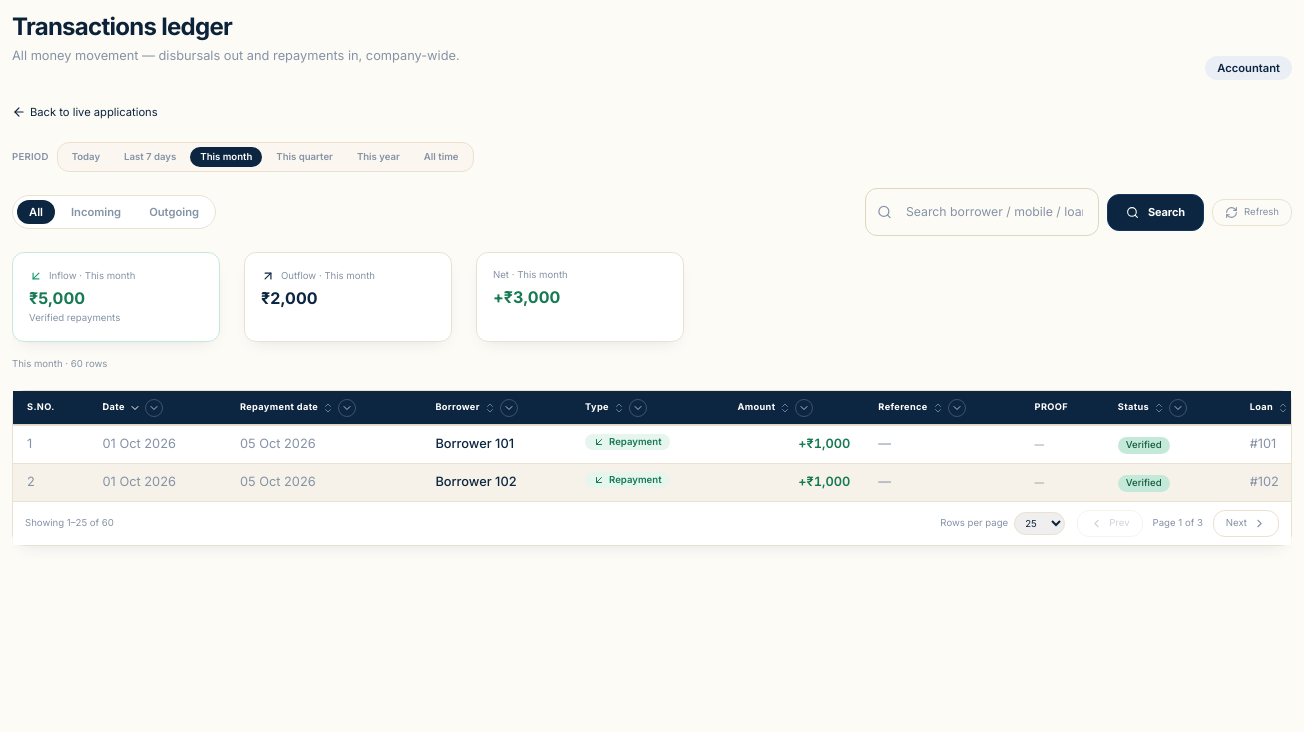
Test: TransactionsPage › asks once, for page 1, when the direction changes on a later page
Expected: the button "Borrower 101" is shown, x1=435 y1=434 x2=514 y2=454
Click the button "Next" at (1246, 523), box x1=1213 y1=510 x2=1279 y2=537
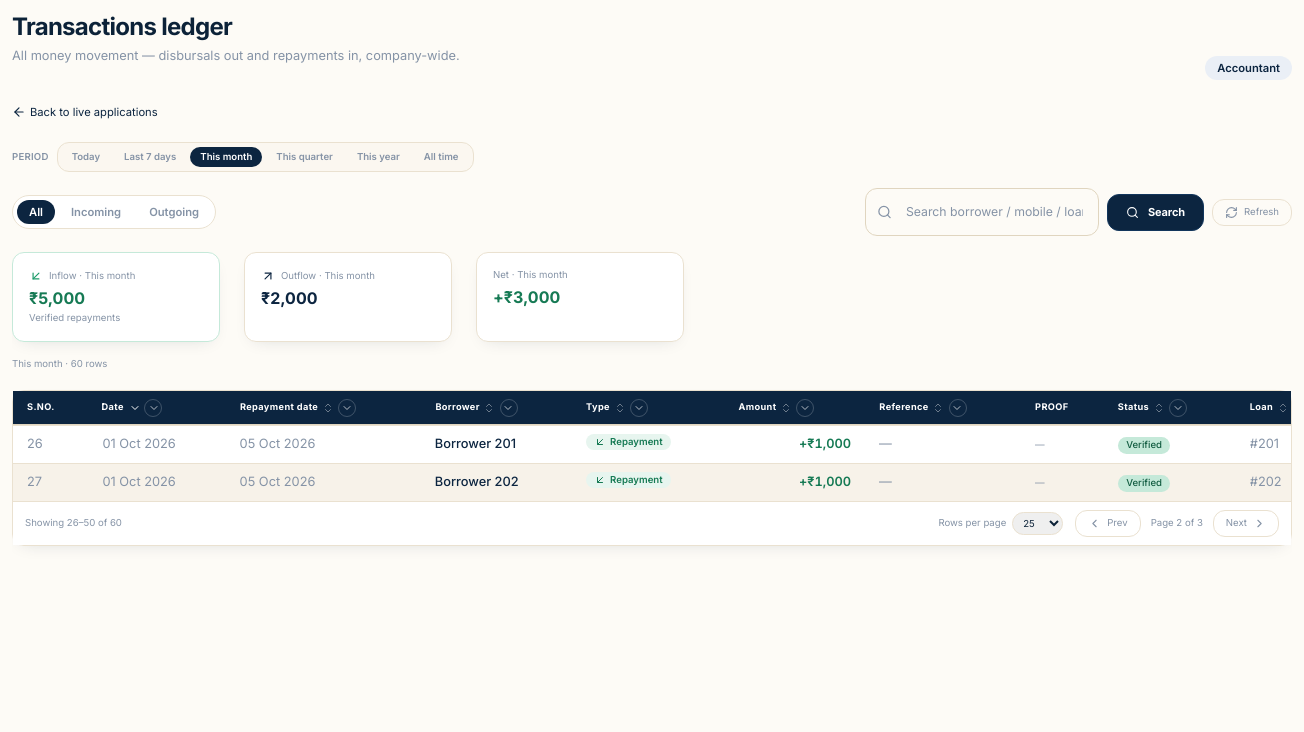
Expected: the button "Borrower 201" is shown, x1=435 y1=434 x2=516 y2=454
Click the button "Incoming" at (96, 212), box x1=59 y1=200 x2=133 y2=224
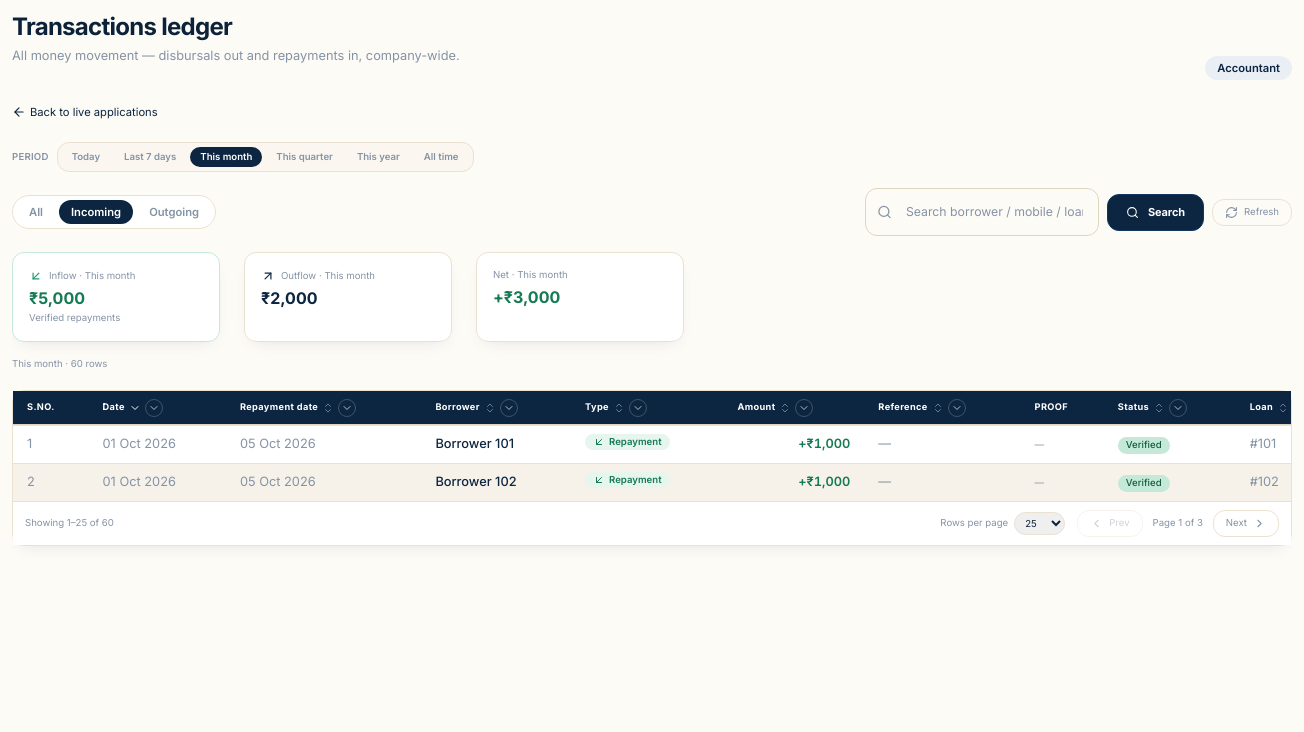
Expected: the button "Borrower 101" is shown, x1=435 y1=434 x2=514 y2=454
